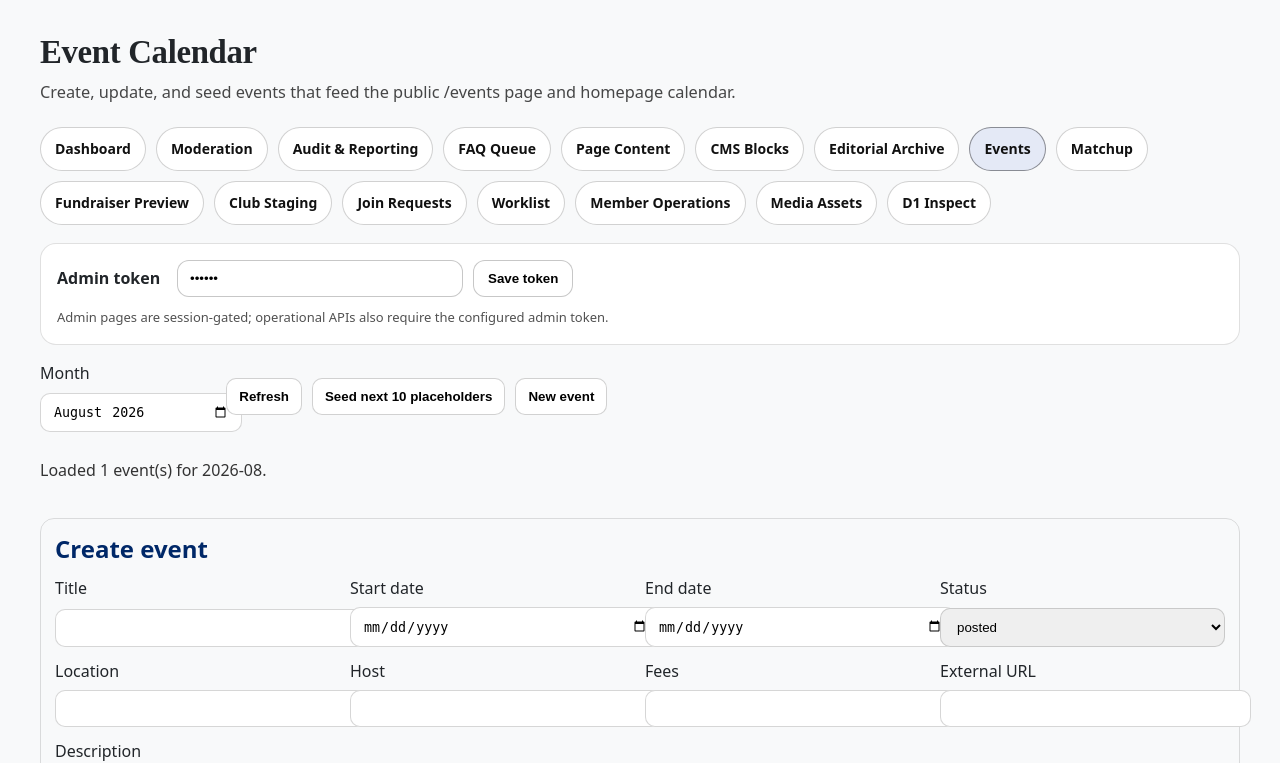
admin events page › clears event state when the admin token is removed
Clear the password field labelled "Admin token" at [320, 279], box [177,260,463,297]
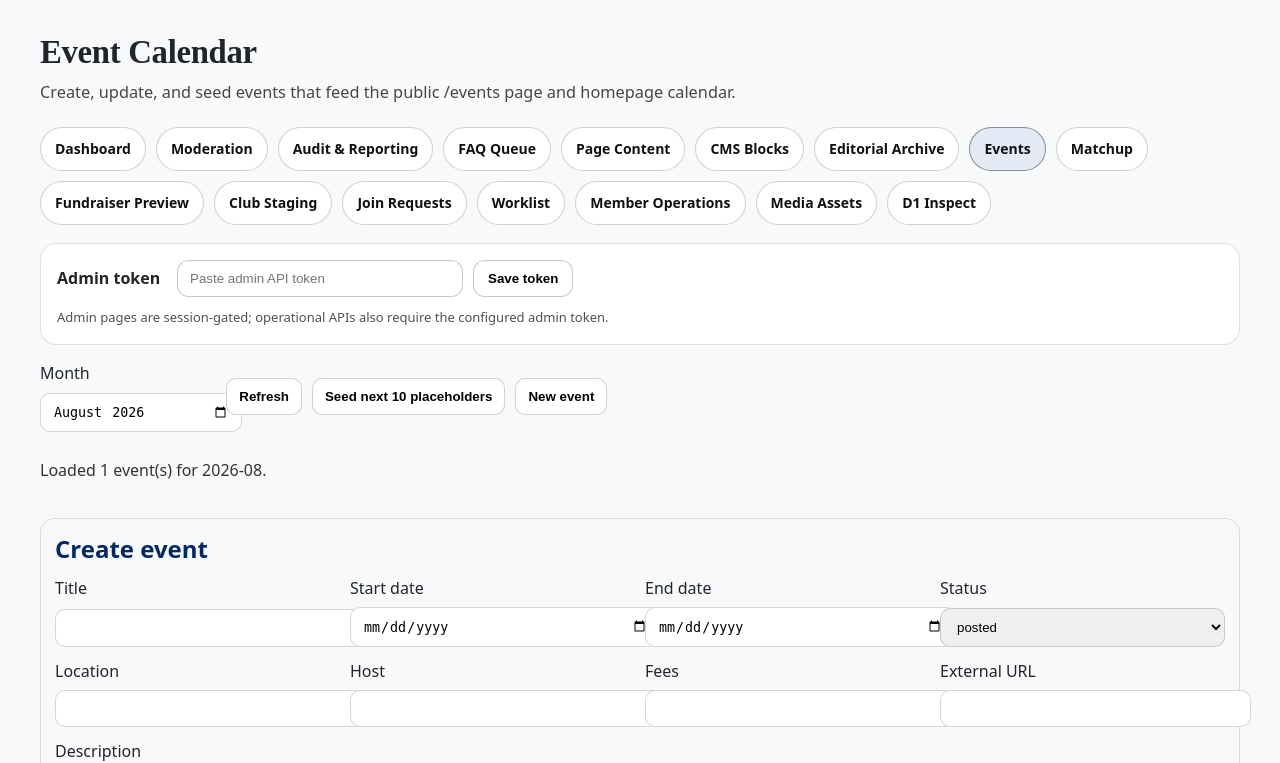
Click the button "Save token".
click(523, 279)  # box [473,260,573,297]
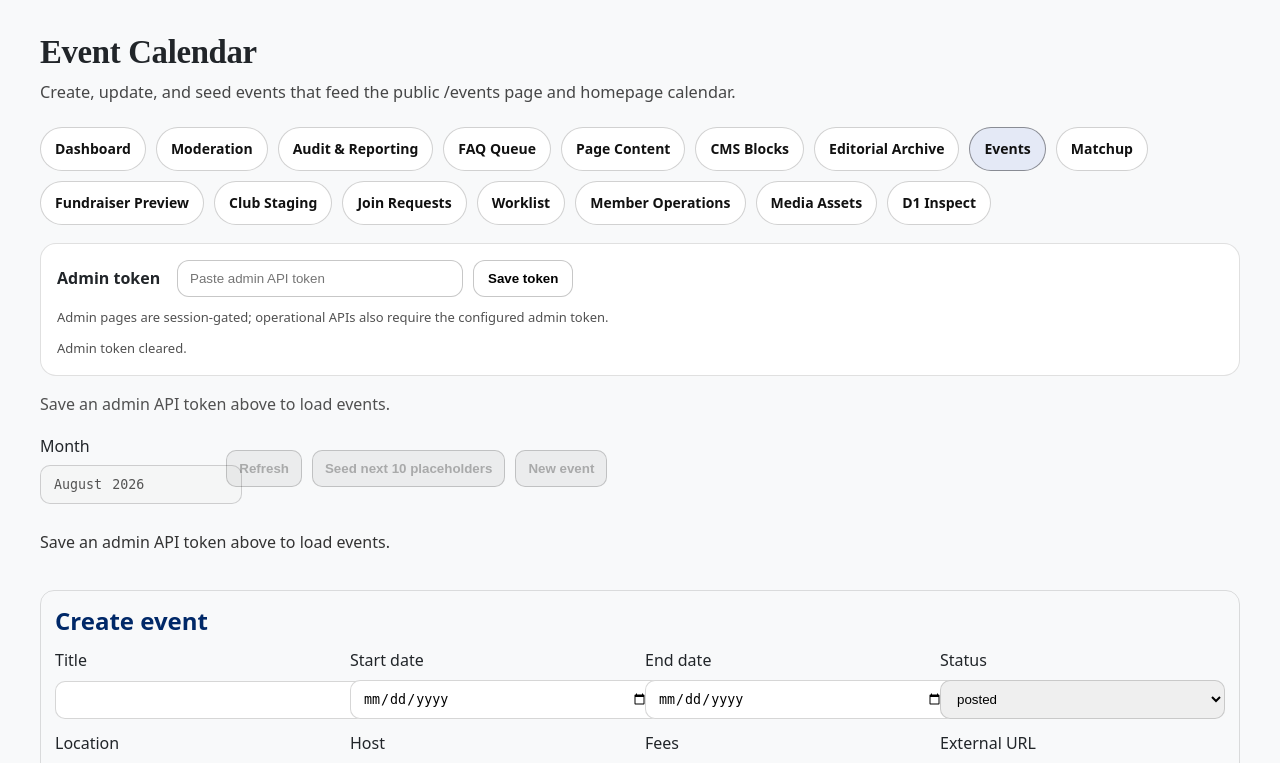
Now the 1st text "Save an admin API token above to load events." is shown, box [40,393,390,415]
